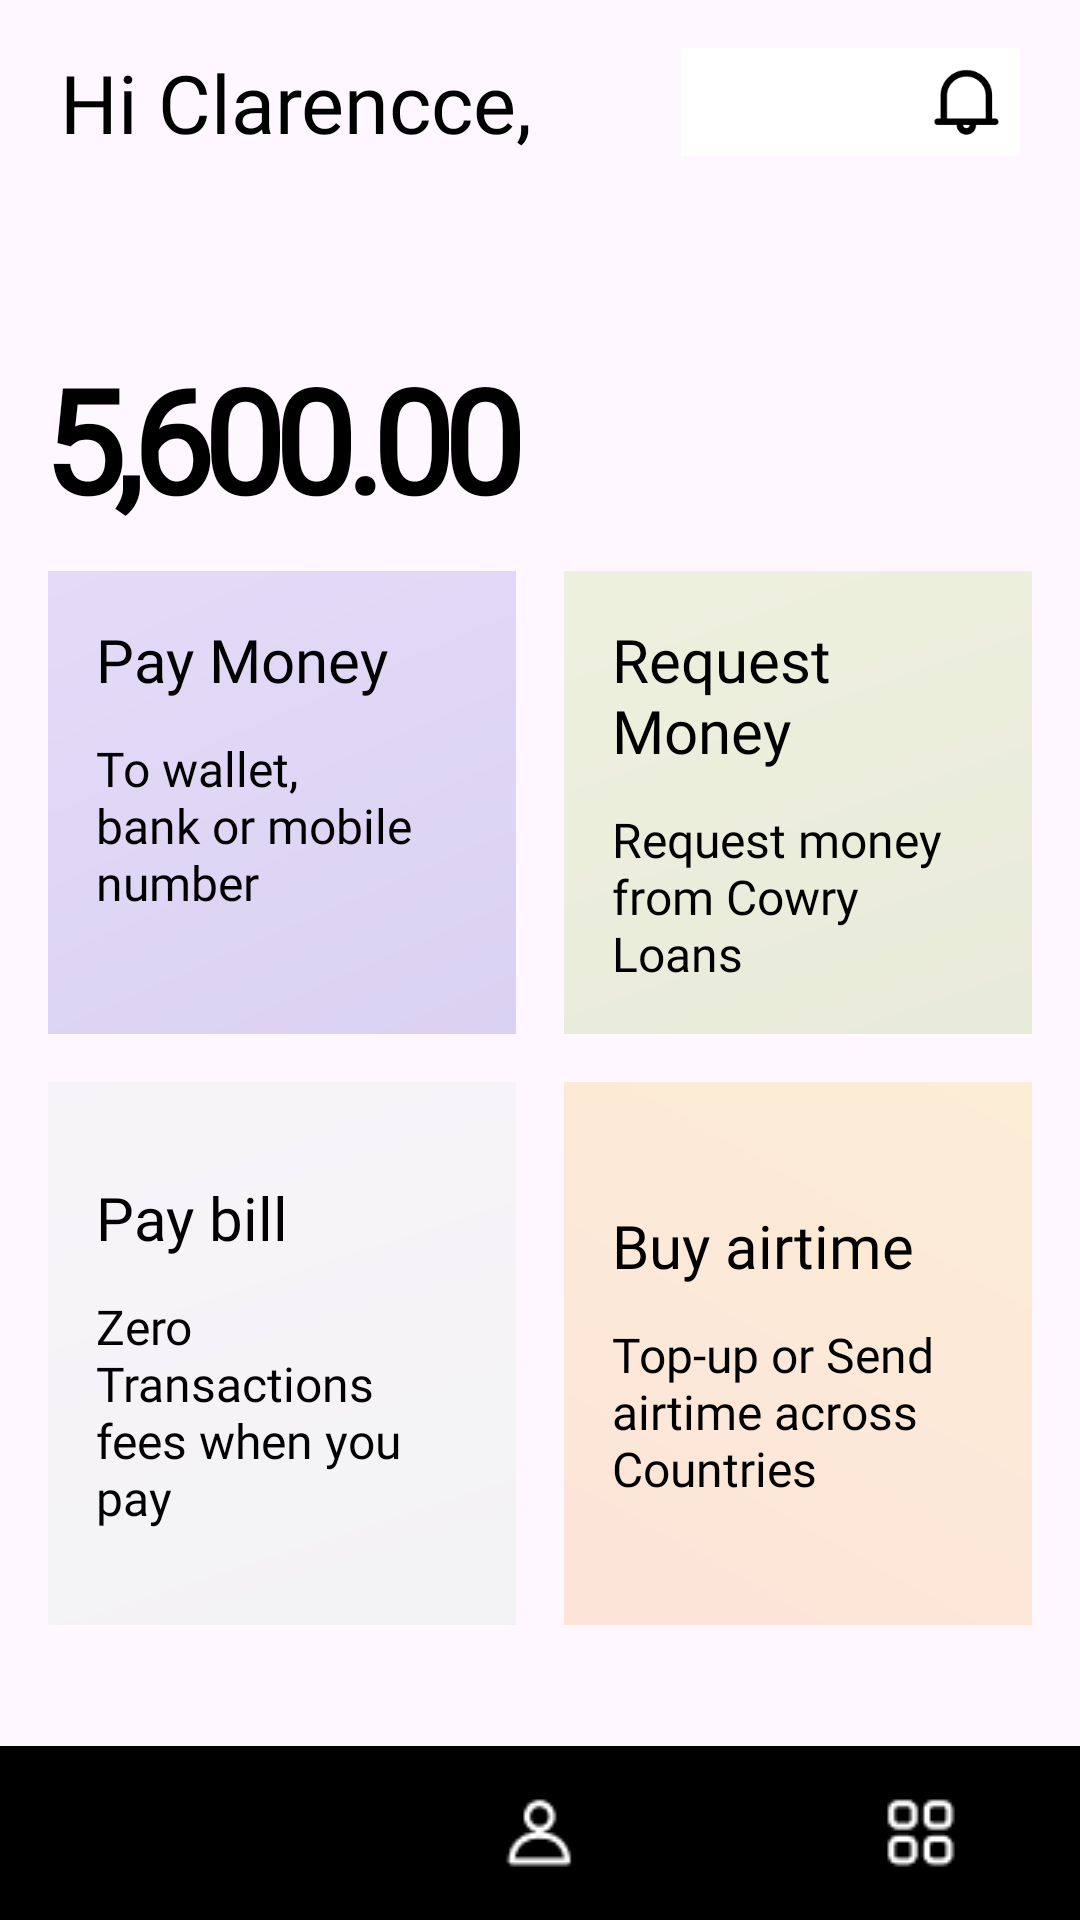

Icons on this 1080w x 1920h Android screen, each with its box as (x1, y1, x2, y2):
Dashboard: (887, 1799, 955, 1867)
Notification: (934, 70, 999, 135)
User: (506, 1799, 571, 1867)
